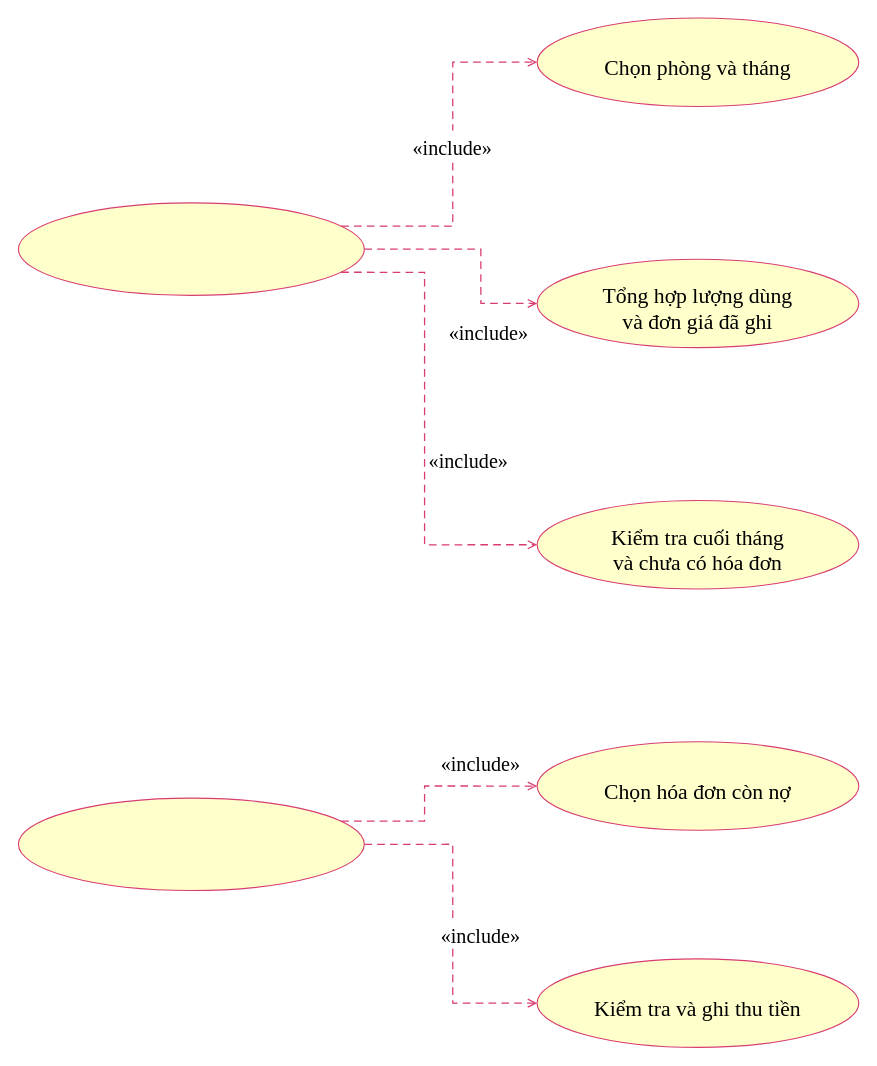
Some shapes in this 877 by 1066 pixel diagram are drawn without their labels. Each missing label, with the centre of its shape:
"Lập hóa đơn dịch vụ tháng" belongs at [190,248].
"Thanh toán hóa đơn dịch vụ" belongs at [190,844].
